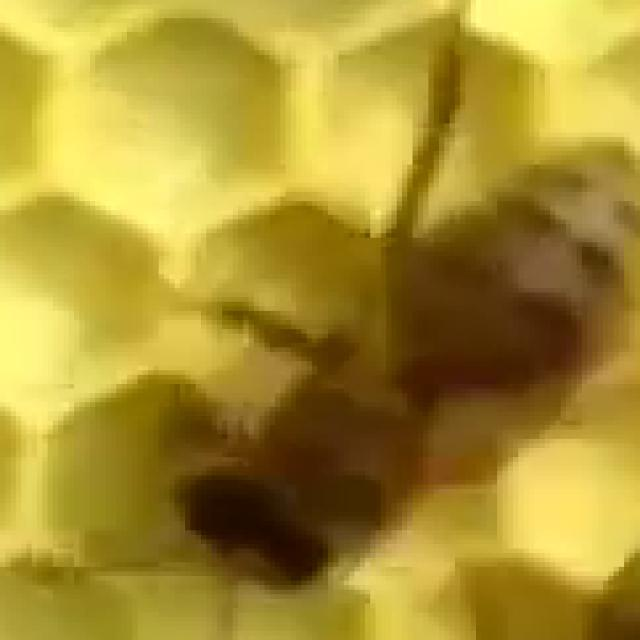honeybee: (188, 91, 640, 558)
